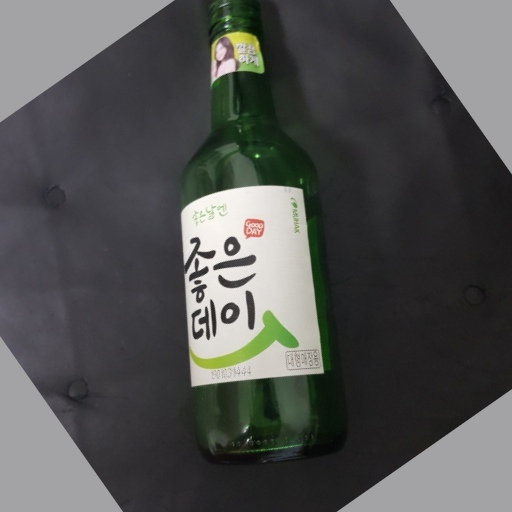Glass_0: (182, 1, 352, 465)
